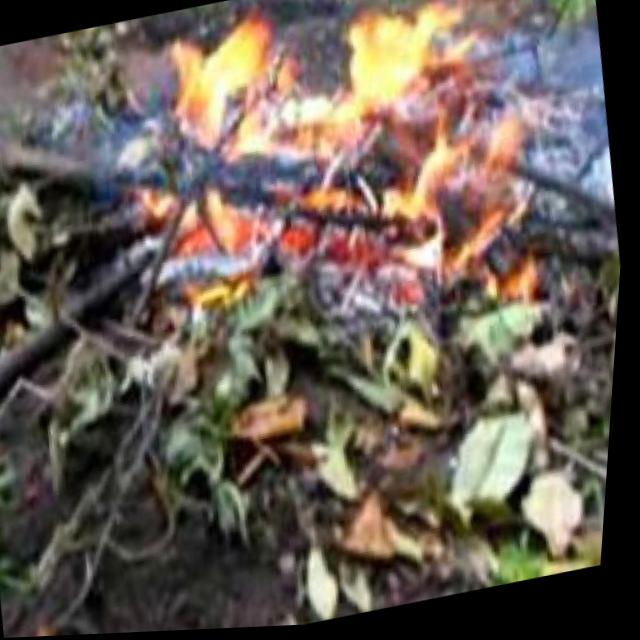Fire: (97, 0, 574, 356)
